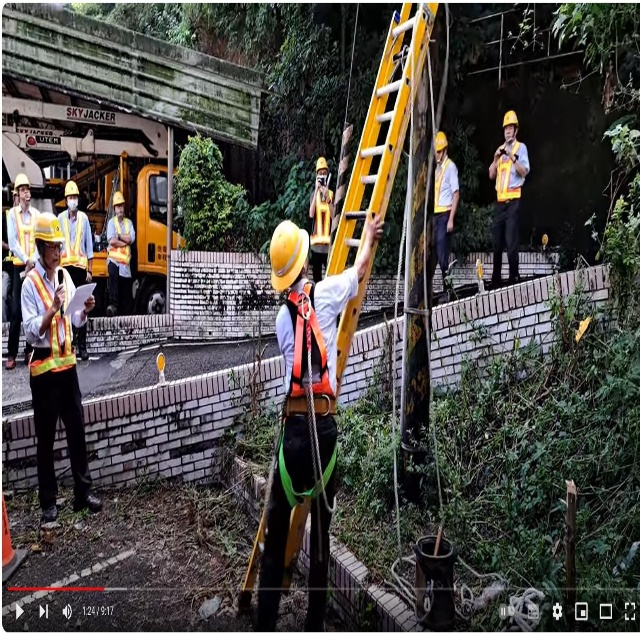Arnes_seguridad: (278, 279, 341, 515)
